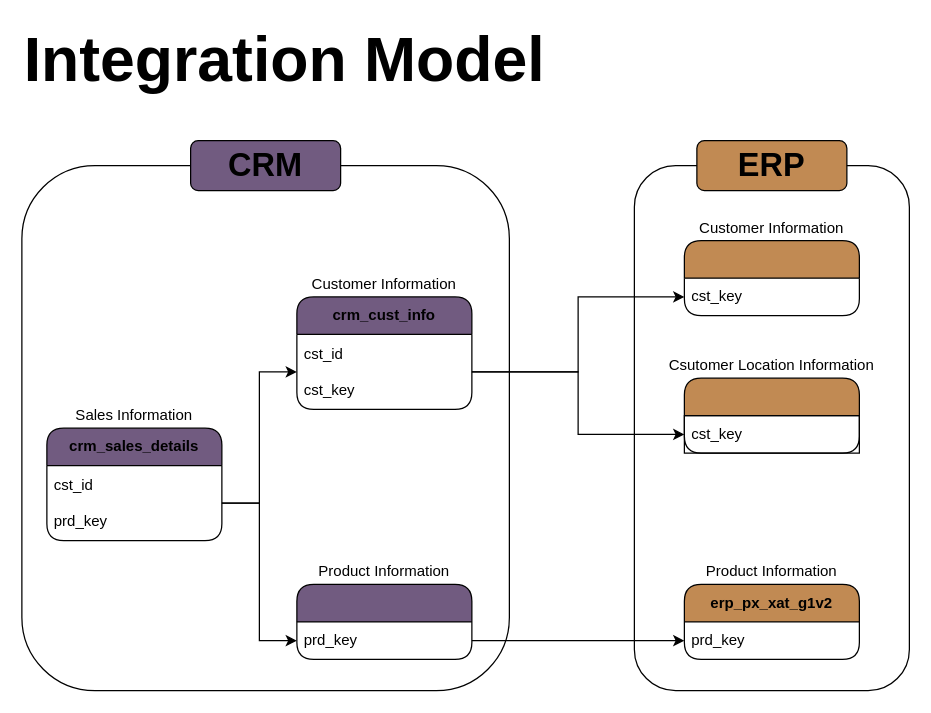
Image size: 931x713. Some labels were removed from this diagram. The shapes that lost their labels are listed below. From the top down, each one's box as (x1, y1, x2, y2) in pixels, then its label:
(683, 239, 859, 316): erp_cust_az12
(683, 377, 859, 453): erp_loc_a101
(296, 583, 472, 659): crm_prd_id
